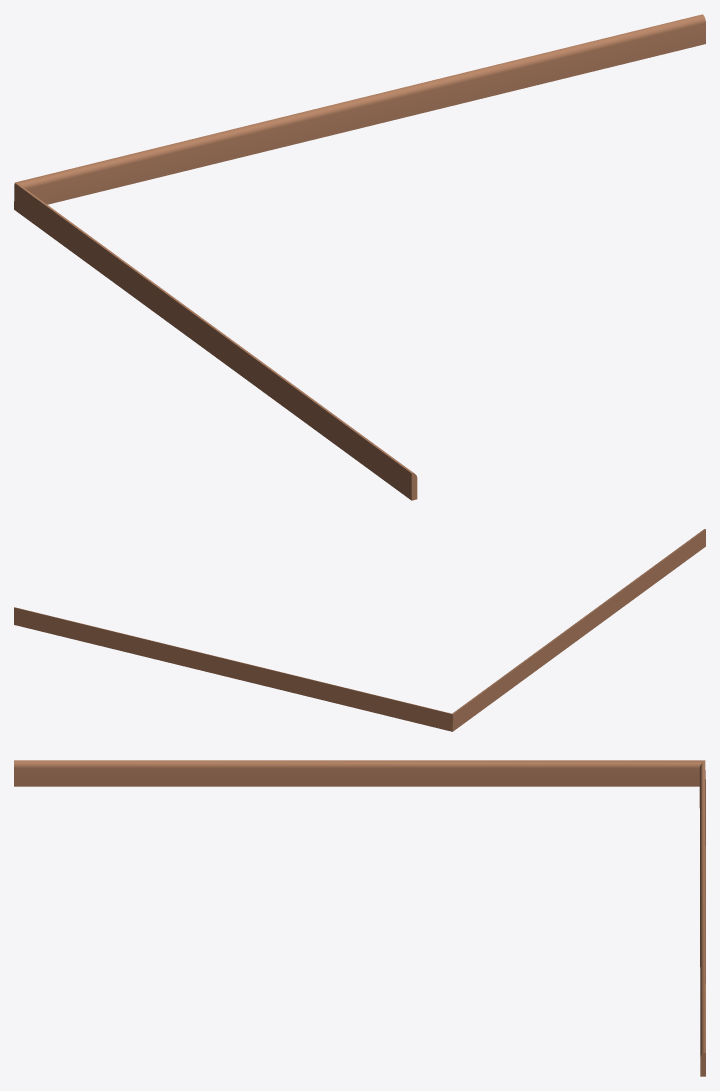
Rendered from floor trim.glb.
The picture shows the model from 3 angles, top to bottom: view 1: azimuth 30°, elevation 25°; view 2: azimuth 150°, elevation 25°; view 3: azimuth 270°, elevation 25°; orthographic projection. The views are drawn at different scales.
Visible parts, largest first — view 1: floor_trim; view 2: floor_trim; view 3: floor_trim.
Part boxes in pixels (x1,y1,x2,y2): floor_trim: (14,14,705,500); floor_trim: (14,529,705,731); floor_trim: (14,760,705,1076).
Size of the model in its own units: 7.36 by 0.2797 by 7.36.
